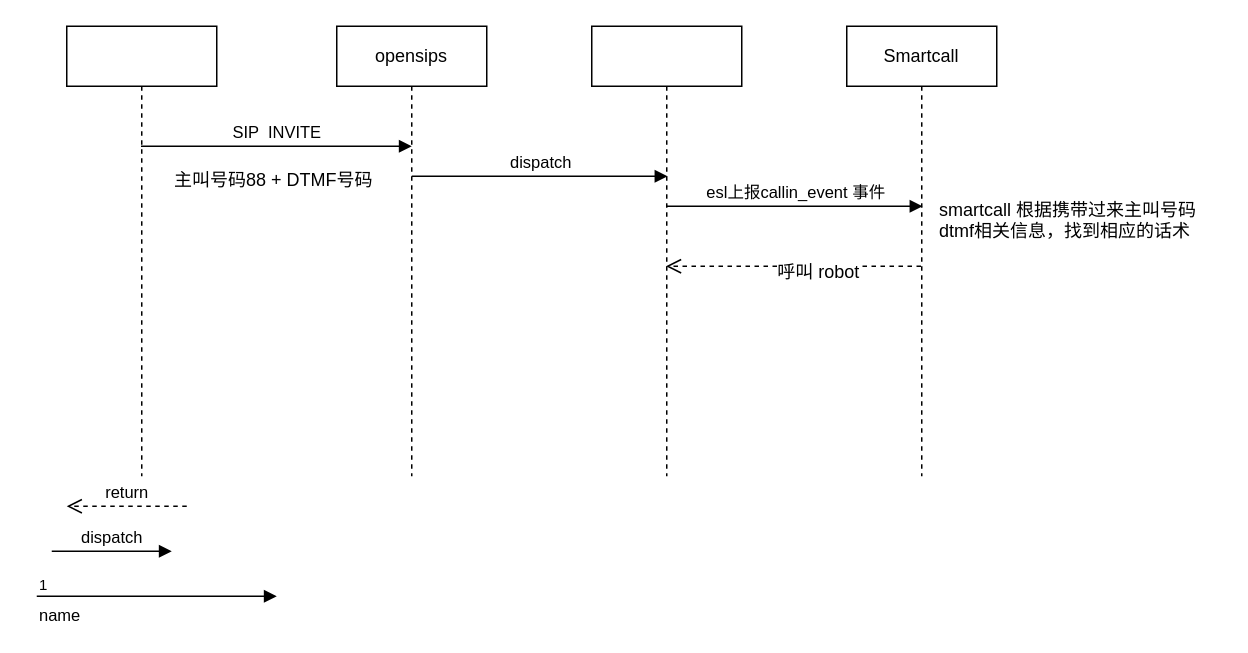
Image size: 1248x653. Some labels were removed from this diagram. The shapes that lost their labels are listed below. From the top down, each one's box as (x1, y1, x2, y2) in pixels, then its label:
(65, 25, 217, 476): 局端 IVR 呼叫中心
(590, 25, 742, 476): FS
